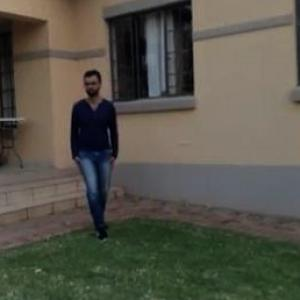follow: (69, 62, 121, 245)
